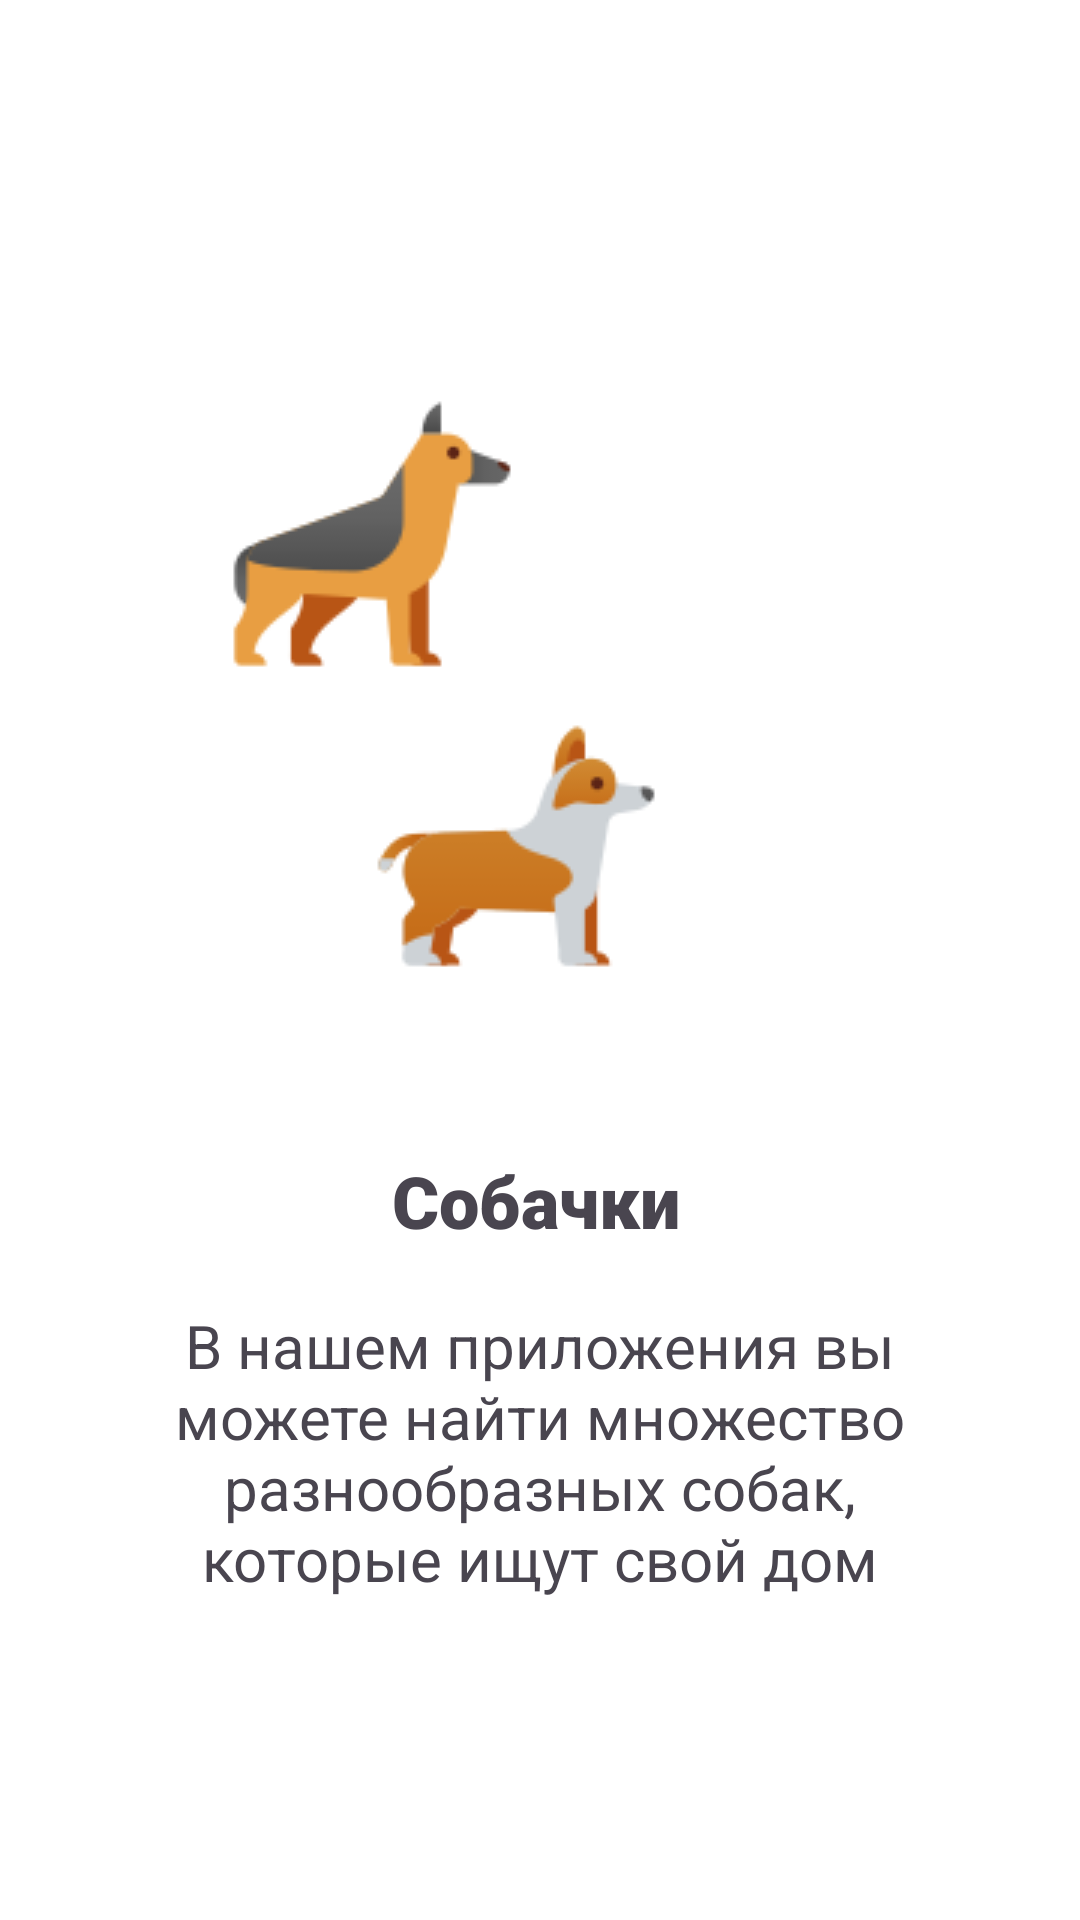

Named icons in this screenshot (1080x1920) and their centers, (x,y):
dog: (372,534), (516,846)
